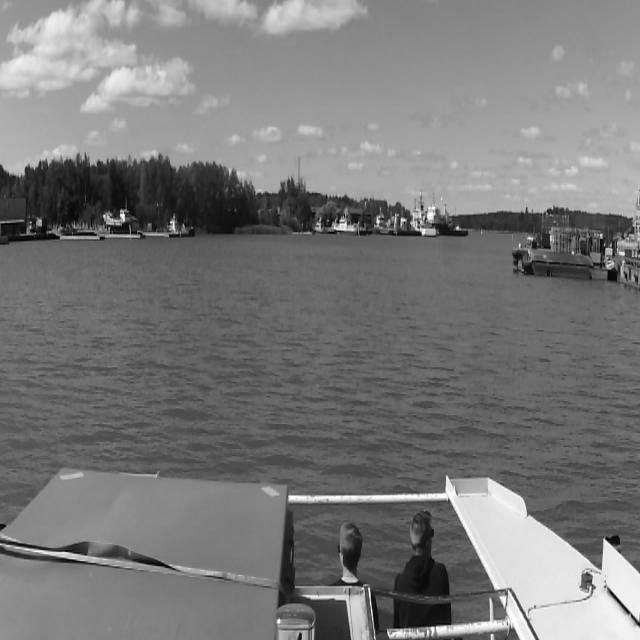ship: (409, 188, 437, 238), (331, 212, 358, 236)
